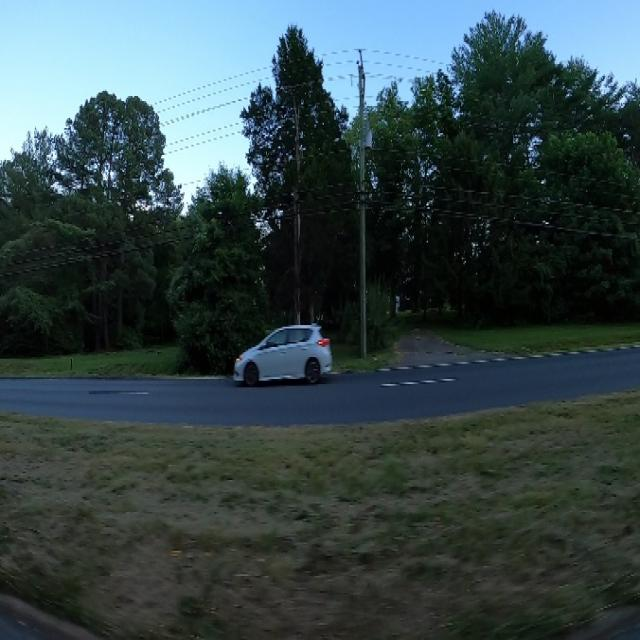car: (226, 297, 342, 398)
